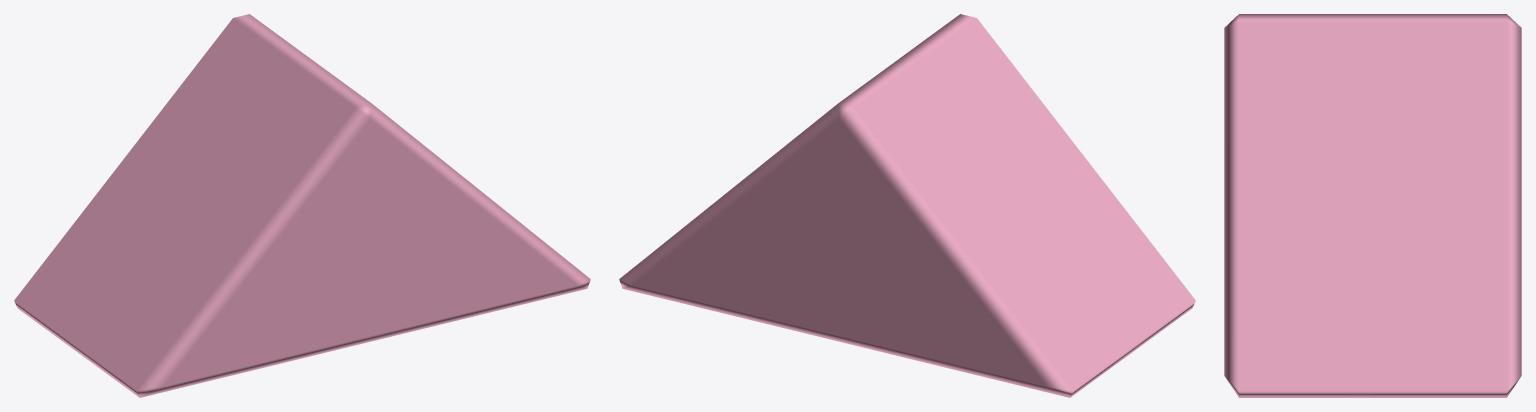
Rendered from 2x1x1_Square_Roof.fbx.
3 views of the same model, side by side, from view 1: azimuth 30°, elevation 25°; view 2: azimuth 150°, elevation 25°; view 3: azimuth 270°, elevation 25° (orthographic). The views are drawn at different scales.
Visible parts, largest first — view 1: 2x1x1_Square_Roof; view 2: 2x1x1_Square_Roof; view 3: 2x1x1_Square_Roof.
Part boxes in pixels (x1,y1,x2,y2): 2x1x1_Square_Roof: (14, 14, 590, 397); 2x1x1_Square_Roof: (619, 14, 1195, 397); 2x1x1_Square_Roof: (1224, 14, 1521, 397).
Size of the model in its own units: 0.1929 by 0.0965 by 0.1.
1 material, 1 textured.
